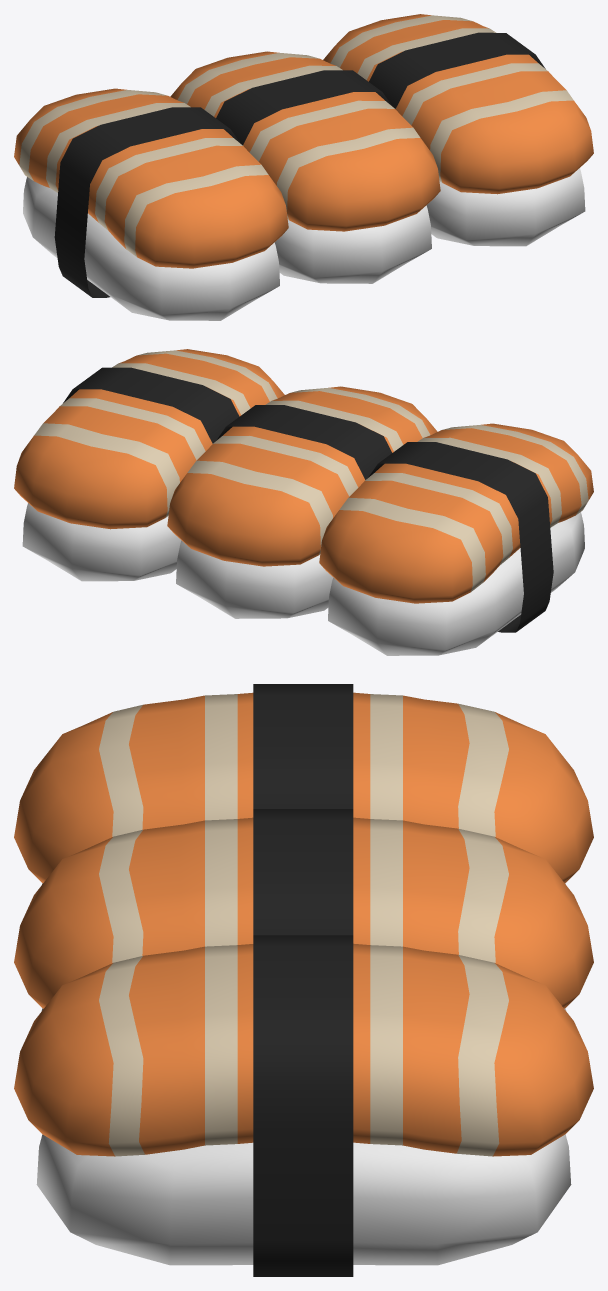
The model's file is Food_SalmonNigiri.glb.
3 renders of one model, top to bottom at view 1: azimuth 30°, elevation 25°; view 2: azimuth 150°, elevation 25°; view 3: azimuth 270°, elevation 25°, orthographic. The views are drawn at different scales.
Visible parts, largest first — view 1: Food_SalmonNigiri.002, Food_SalmonNigiri.001, Food_SalmonNigiri; view 2: Food_SalmonNigiri.002, Food_SalmonNigiri.001, Food_SalmonNigiri; view 3: Food_SalmonNigiri.001, Food_SalmonNigiri, Food_SalmonNigiri.002.
Part boxes in pixels (x1,y1,x2,y2): Food_SalmonNigiri.002: (14,88,288,320); Food_SalmonNigiri.001: (323,14,593,246); Food_SalmonNigiri: (170,51,440,283); Food_SalmonNigiri.002: (319,423,593,655); Food_SalmonNigiri.001: (14,349,284,581); Food_SalmonNigiri: (167,386,437,618); Food_SalmonNigiri.001: (14,935,593,1276); Food_SalmonNigiri: (14,809,593,1010); Food_SalmonNigiri.002: (14,684,593,884).
Size of the model in its own units: 1.02 by 0.3141 by 0.6512.
3 materials, 3 textured.
